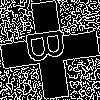B: (25, 25, 75, 65)
